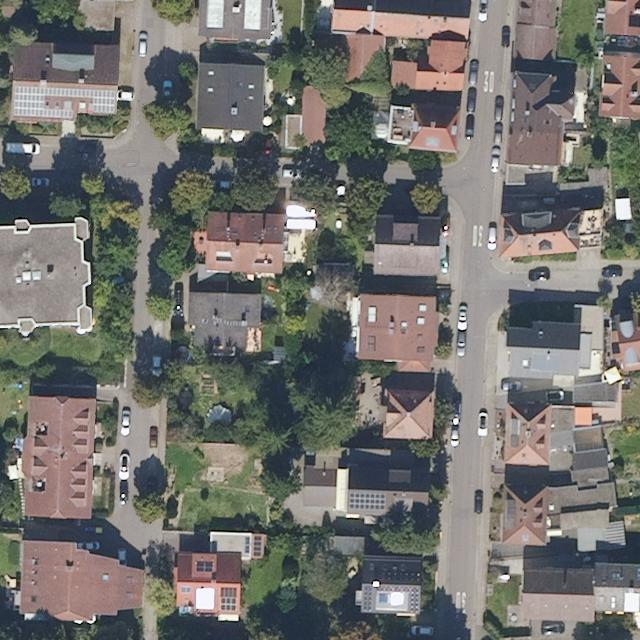PV: (12, 84, 118, 121), (362, 584, 421, 614), (348, 492, 385, 512), (194, 559, 214, 573), (252, 534, 262, 558)
